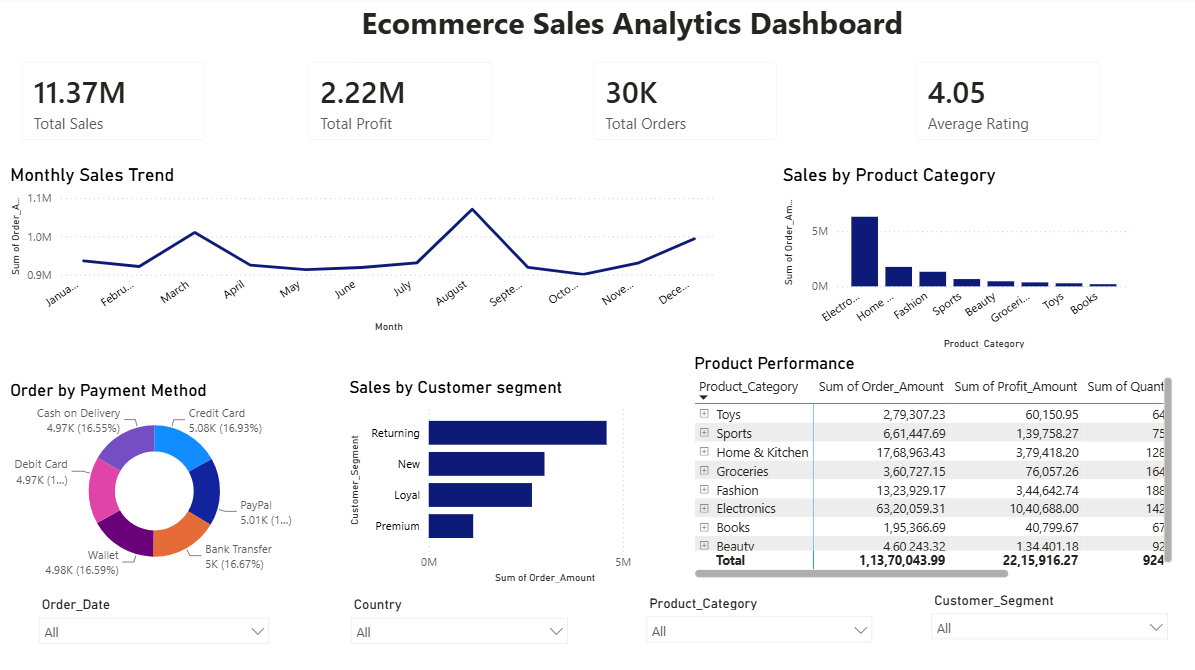

The page's visual inventory and layout, read from the dashboard file:
{"tool":"powerbi","page":{"name":"Page 1","canvas":[1280,720],"ordinal":0},"visuals":[{"type":"clusteredBarChart","title":"Sales by Customer segment","fields":{"Y":["Sum(ecommerce_orders_dataset.Order_Amount)"],"Category":["ecommerce_orders_dataset.Customer_Segment"]},"box":[367.4,404,349.9,222.7],"z":0},{"type":"donutChart","title":"Order by Payment Method","fields":{"Category":["ecommerce_orders_dataset.Payment_Method"],"Y":["CountNonNull(ecommerce_orders_dataset.Order_ID)"]},"box":[8,407.2,314.9,214.7],"z":1000},{"type":"lineChart","title":"Monthly Sales Trend","fields":{"Category":["ecommerce_orders_dataset.Order_Date.Variation.Date Hierarchy.Month"],"Y":["Sum(ecommerce_orders_dataset.Order_Amount)"]},"box":[8,178.1,758.7,182.9],"z":2000},{"type":"pivotTable","title":"Product Performance","fields":{"Rows":["ecommerce_orders_dataset.Product_Category","ecommerce_orders_dataset.Product_Subcategory"],"Values":["Sum(ecommerce_orders_dataset.Order_Amount)","Sum(ecommerce_orders_dataset.Profit_Amount)","Sum(ecommerce_orders_dataset.Quantity)","Avg(ecommerce_orders_dataset.Review_Rating)"]},"box":[733.3,378.6,516.9,243.4],"z":3000},{"type":"clusteredColumnChart","title":"Sales by Product Category","fields":{"Category":["ecommerce_orders_dataset.Product_Category"],"Y":["Sum(ecommerce_orders_dataset.Order_Amount)"]},"box":[827.1,178.1,378.6,200.4],"z":4000},{"type":"cardVisual","fields":{"Data":["Sum(ecommerce_orders_dataset.Order_Amount)"]},"box":[8,52.5,229,117.7],"z":5000},{"type":"cardVisual","fields":{"Data":["Sum(ecommerce_orders_dataset.Profit_Amount)"]},"box":[311.8,52.5,229,117.7],"z":6000},{"type":"cardVisual","fields":{"Data":["CountNonNull(ecommerce_orders_dataset.Order_ID)"]},"box":[614,52.5,229,117.7],"z":7000},{"type":"cardVisual","fields":{"Data":["Avg(ecommerce_orders_dataset.Review_Rating)"]},"box":[956,52.5,229,117],"z":8000},{"type":"textbox","box":[380.2,0,599.7,52.5],"z":9000},{"type":"slicer","fields":{"Values":["ecommerce_orders_dataset.Country"]},"box":[364.2,631.5,249.7,73.2],"z":10000},{"type":"slicer","fields":{"Values":["ecommerce_orders_dataset.Order_Date"]},"box":[33.4,631.5,264,76.3],"z":11000},{"type":"slicer","fields":{"Values":["ecommerce_orders_dataset.Product_Category"]},"box":[677.6,629.9,259.3,63.6],"z":12000},{"type":"slicer","fields":{"Values":["ecommerce_orders_dataset.Customer_Segment"]},"box":[979.8,626.7,270.4,77.9],"z":13000}]}

Visuals, with their boxes in screenshot pixels (x1, y1, x2, y2), scaled from the page's 1280x720 canvas onto the 1195x670 screenshot:
"Sales by Customer segment" clusteredBarChart: left=343, top=376, right=670, bottom=583
"Order by Payment Method" donutChart: left=7, top=379, right=301, bottom=579
"Monthly Sales Trend" lineChart: left=7, top=166, right=716, bottom=336
"Product Performance" pivotTable: left=685, top=352, right=1167, bottom=579
"Sales by Product Category" clusteredColumnChart: left=772, top=166, right=1126, bottom=352
cardVisual - Sum(ecommerce_orders_dataset.Order_Amount): left=7, top=49, right=221, bottom=158
cardVisual - Sum(ecommerce_orders_dataset.Profit_Amount): left=291, top=49, right=505, bottom=158
cardVisual - CountNonNull(ecommerce_orders_dataset.Order_ID): left=573, top=49, right=787, bottom=158
cardVisual - Avg(ecommerce_orders_dataset.Review_Rating): left=893, top=49, right=1106, bottom=158
textbox: left=355, top=0, right=915, bottom=49
slicer - ecommerce_orders_dataset.Country: left=340, top=588, right=573, bottom=656
slicer - ecommerce_orders_dataset.Order_Date: left=31, top=588, right=278, bottom=659
slicer - ecommerce_orders_dataset.Product_Category: left=633, top=586, right=875, bottom=645
slicer - ecommerce_orders_dataset.Customer_Segment: left=915, top=583, right=1167, bottom=656
